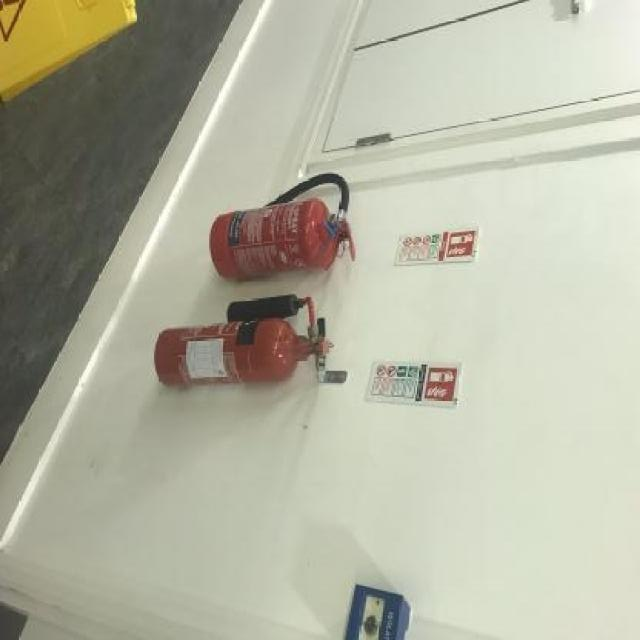fire extinguisher: (155, 294, 328, 389), (208, 174, 357, 280)
